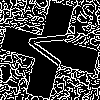V: (25, 25, 77, 69)
